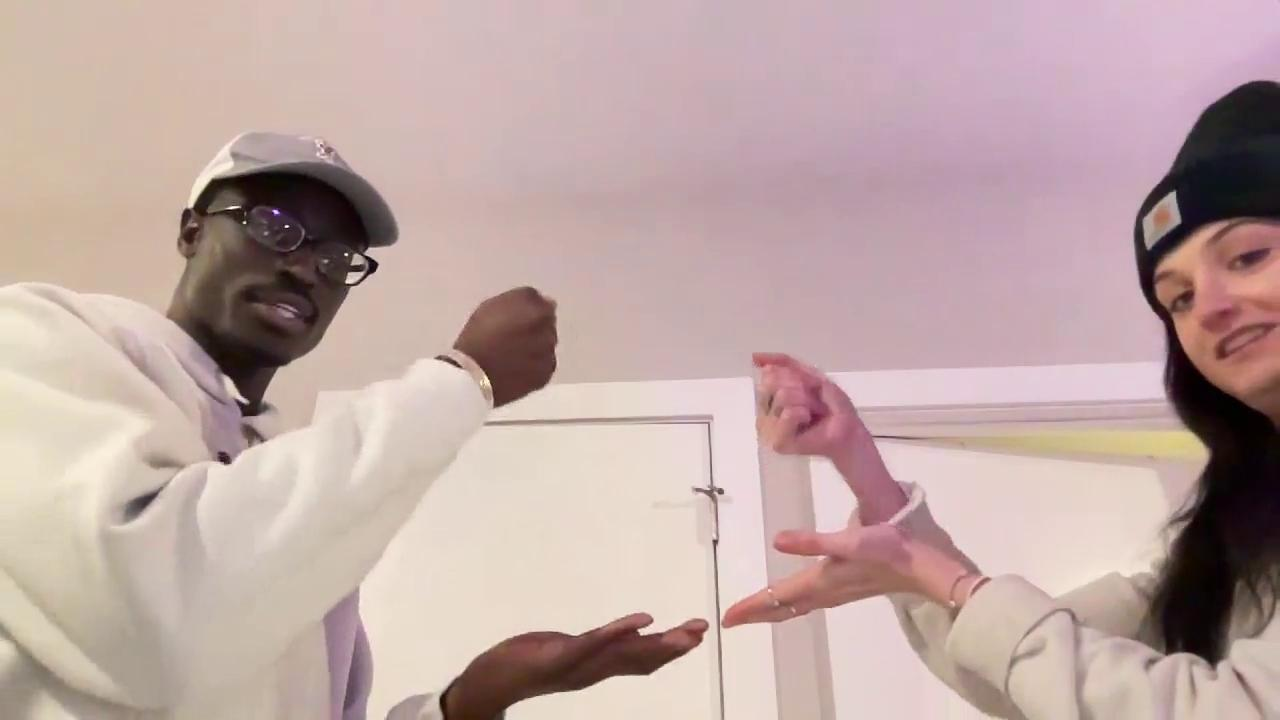Rock: (460, 283, 561, 406), (752, 352, 855, 461)
